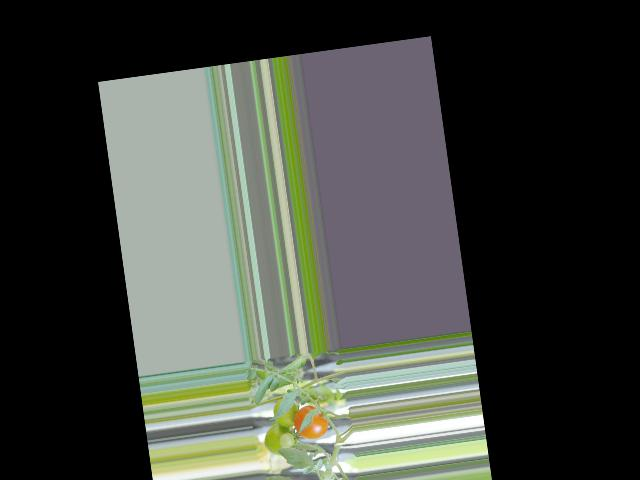tomato: (292, 403, 330, 442)
